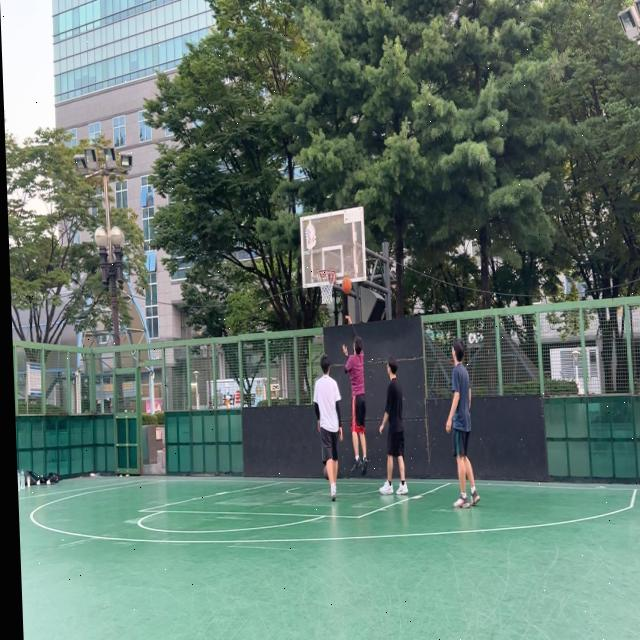basketball: (341, 276, 352, 294)
hoop: (316, 270, 337, 305)
